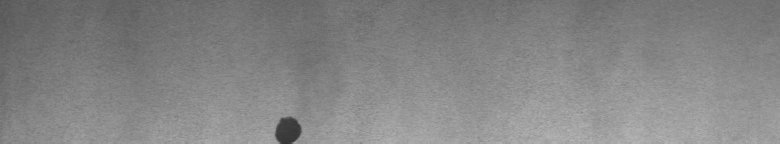fi: (268, 108, 308, 136)
